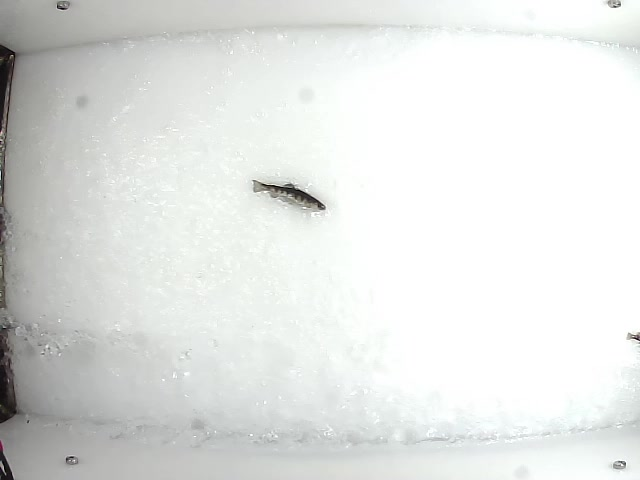fish: (250, 178, 329, 215)
